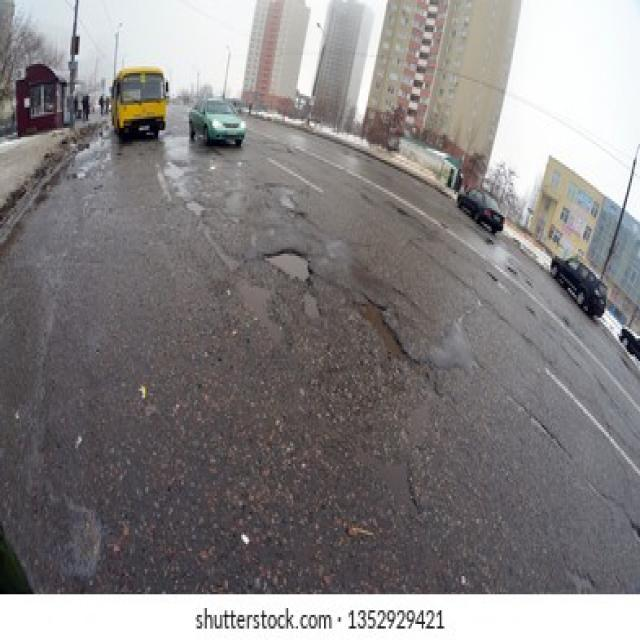Pothole: (355, 297, 407, 361), (267, 249, 314, 284)
